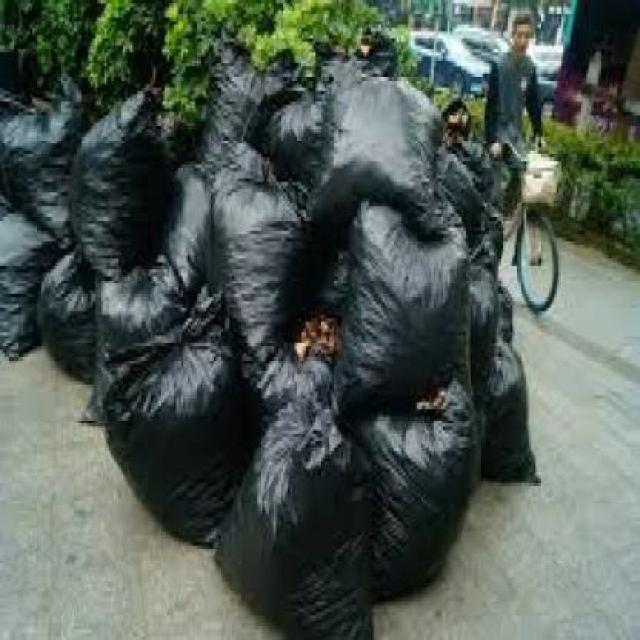garbage: (12, 77, 464, 552)
